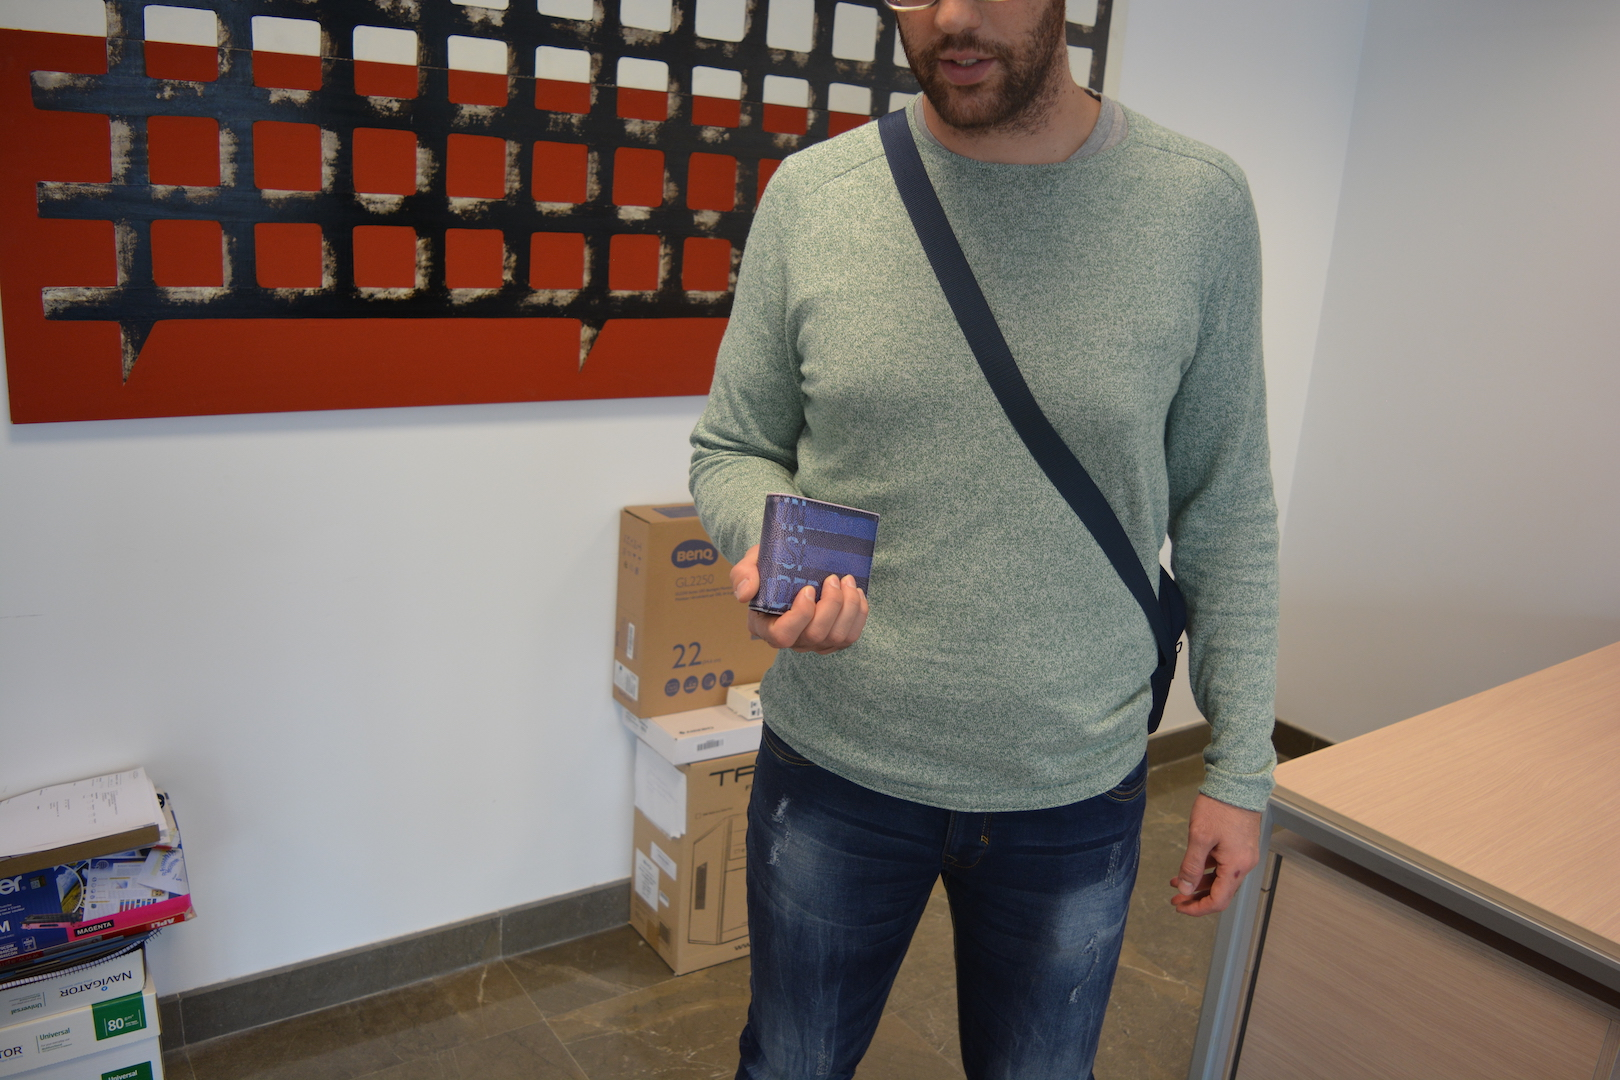monedero: (750, 493, 879, 615)
